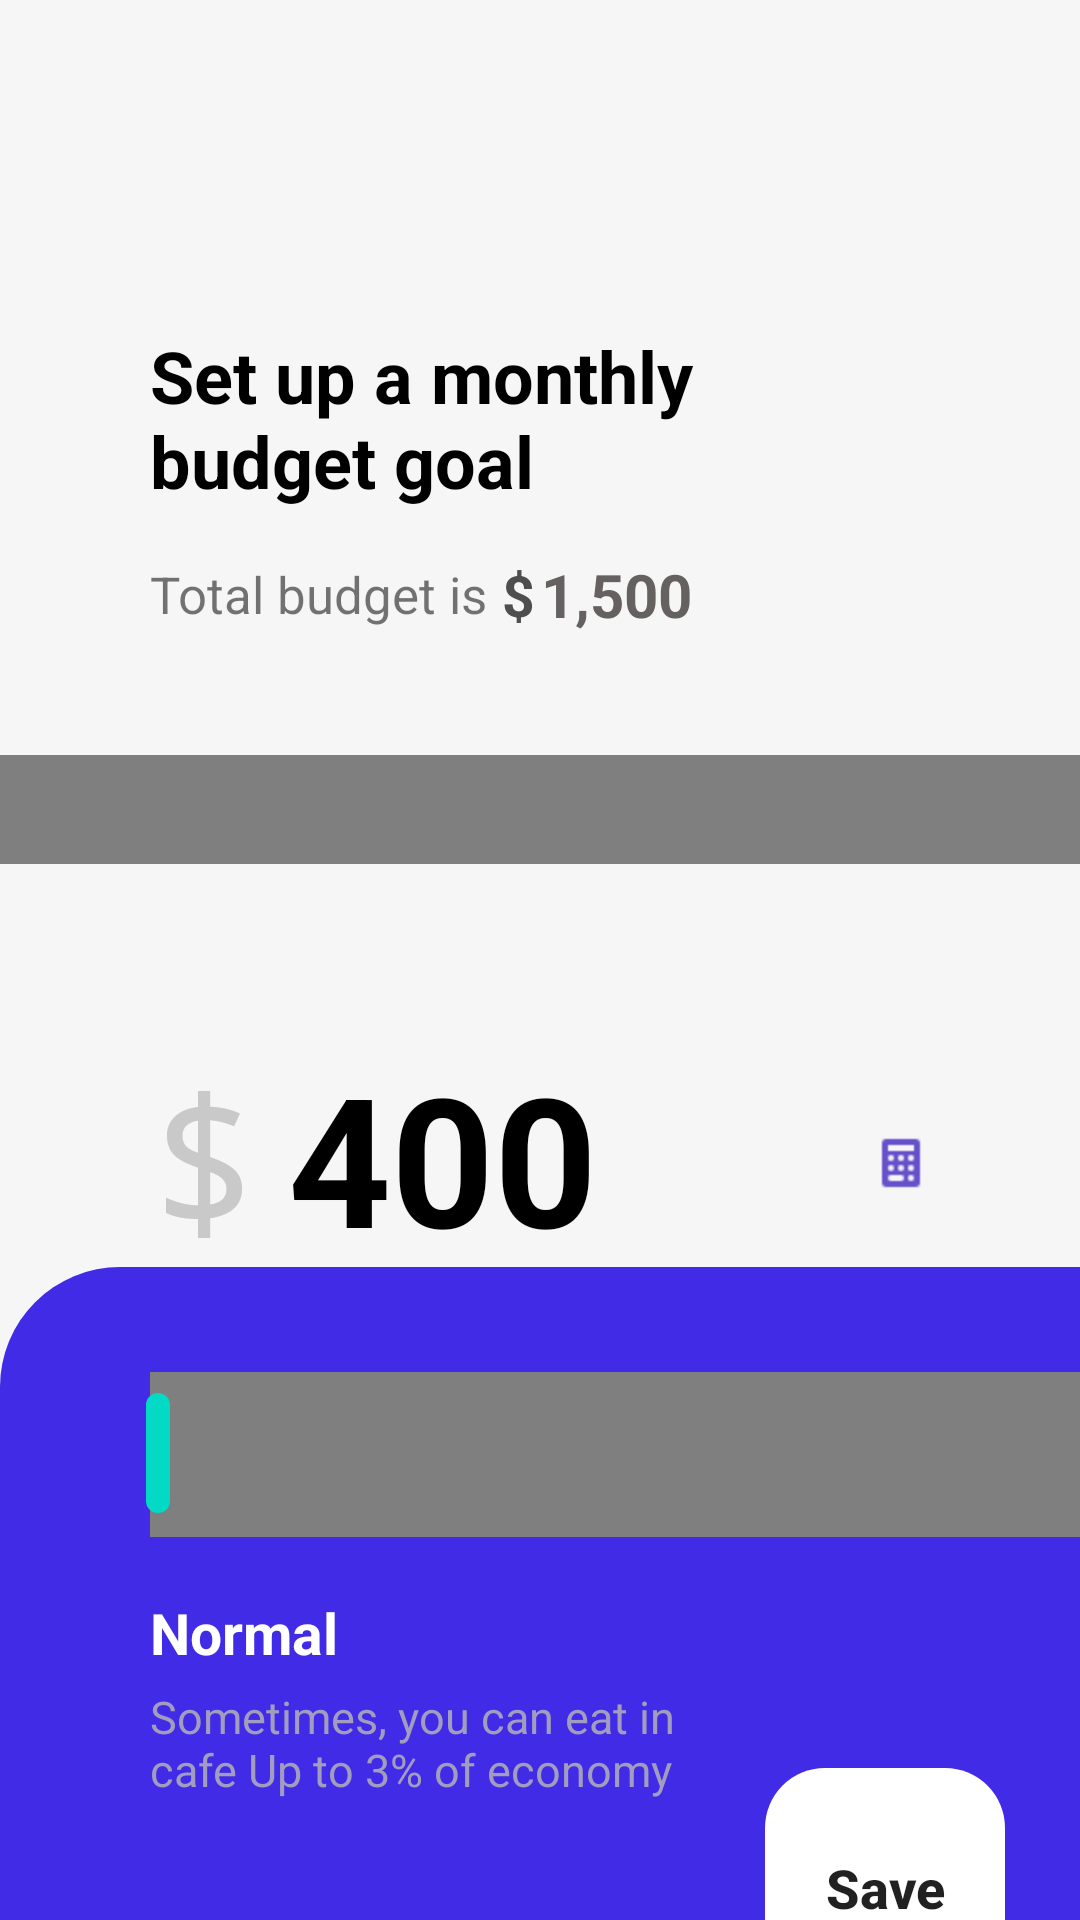

Locate icon controls on the screen. Image size 1080px x 1920px, boxes as (x1, y1, x2, y2).
calculator: (881, 1138, 921, 1188)
